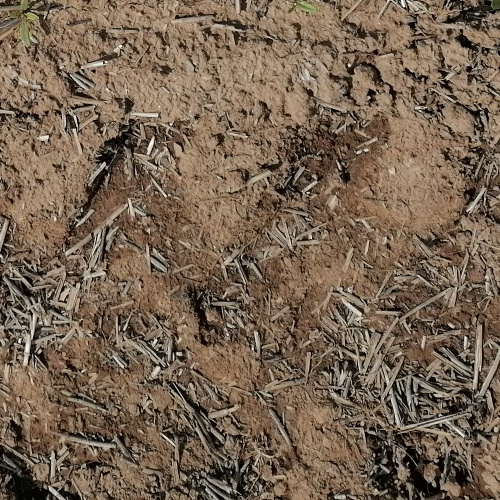beet: (13, 0, 38, 47), (292, 0, 319, 13)
